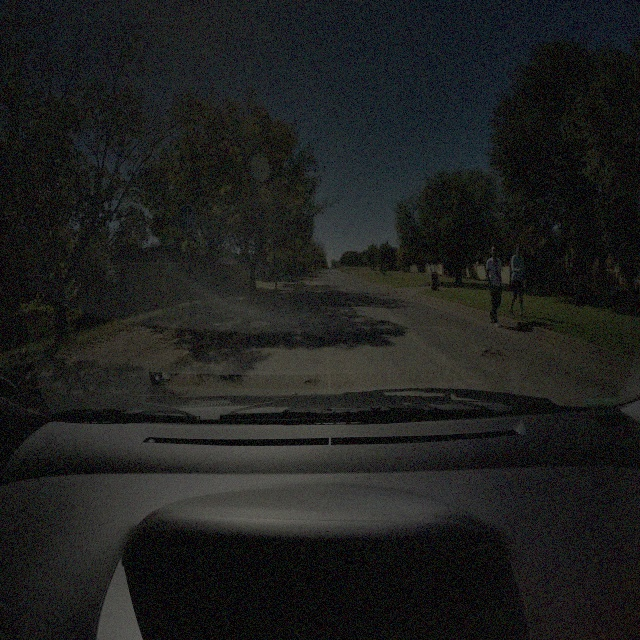pothole: (480, 346, 509, 364), (303, 374, 320, 388)
